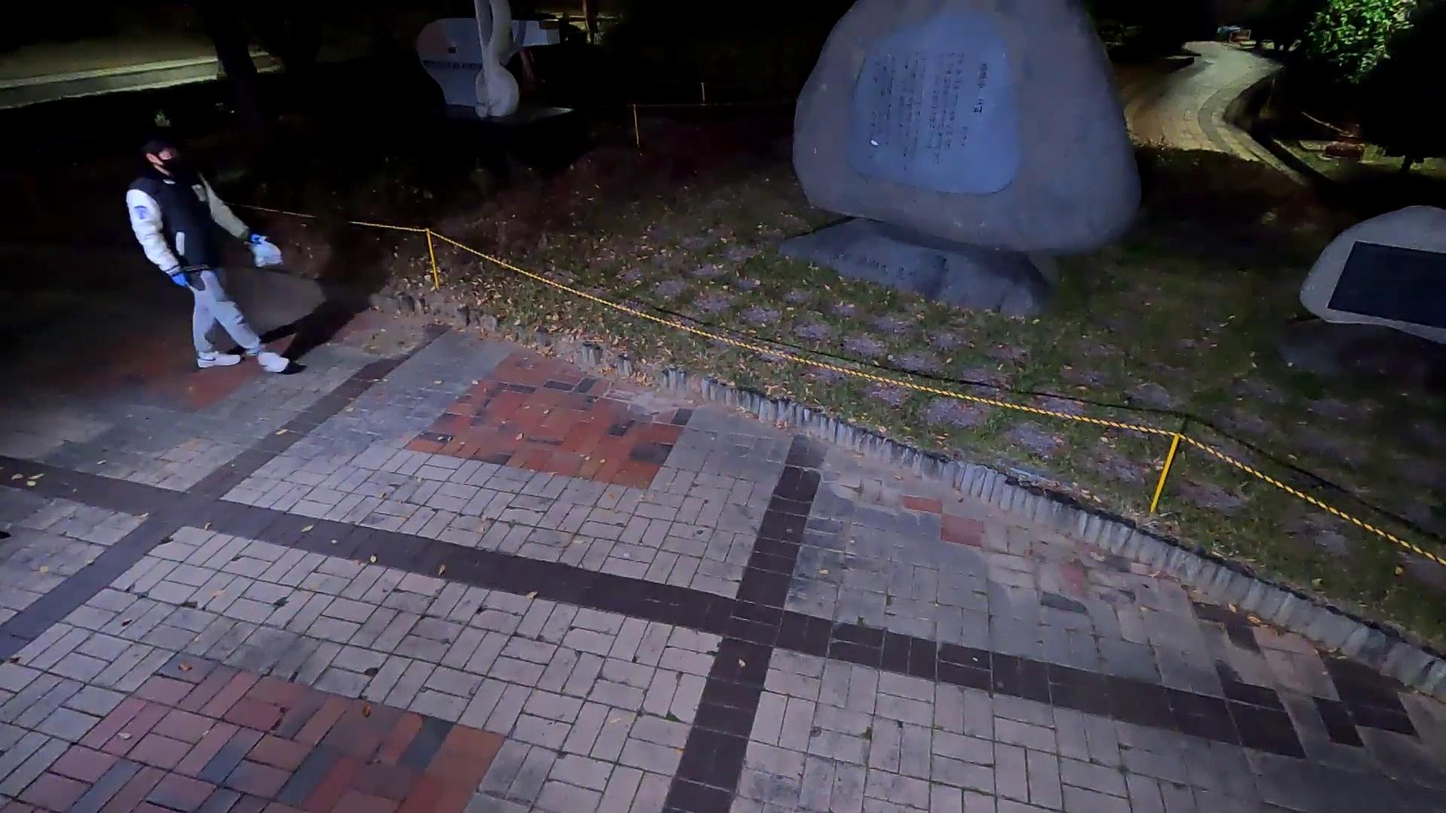person: (119, 128, 296, 378)
trash: (244, 233, 291, 275)
